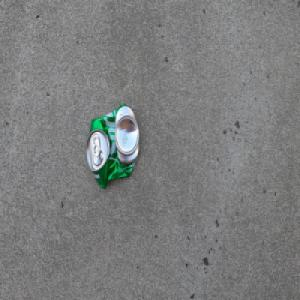SodaCan: (85, 101, 140, 189)
